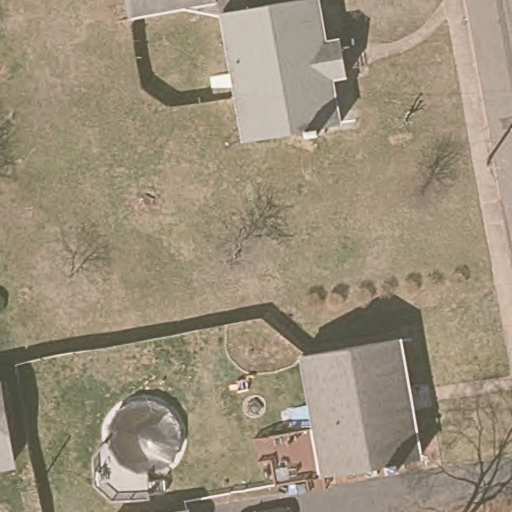DT: (484, 158, 503, 182)
